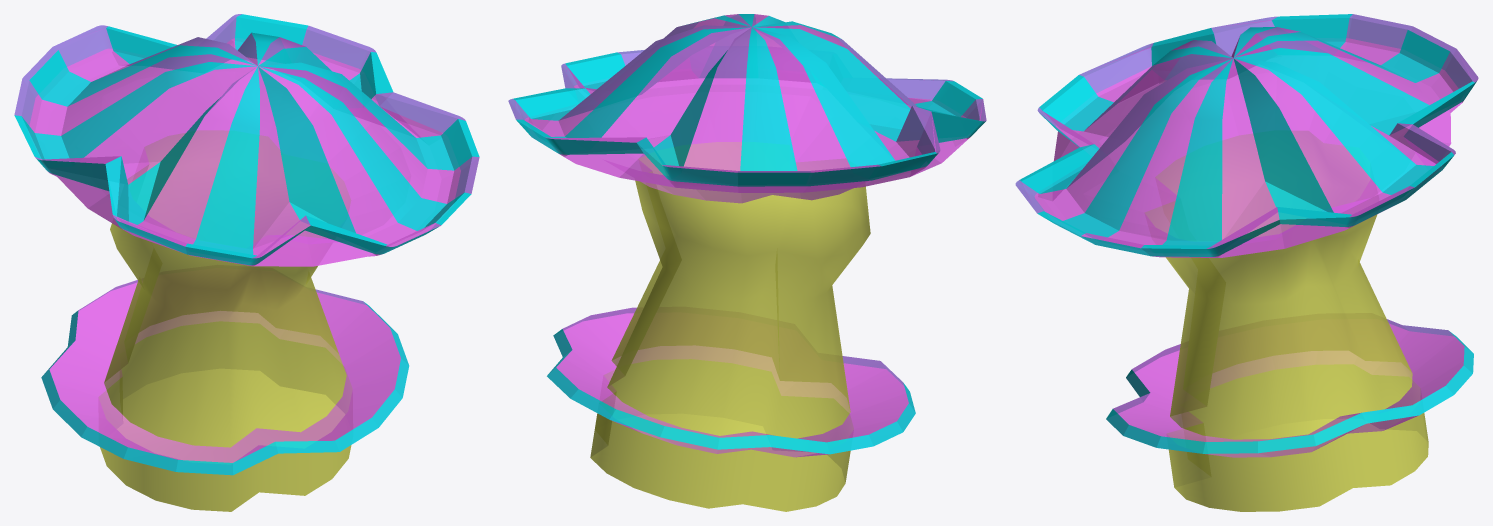
The model's file is Mushroom1.fbx.
3 views of the same model, side by side, from view 1: azimuth 30°, elevation 25°; view 2: azimuth 150°, elevation 25°; view 3: azimuth 270°, elevation 25° (orthographic). The views are drawn at different scales.
Visible parts, largest first — view 1: Little_Mushroom_geo; view 2: Little_Mushroom_geo; view 3: Little_Mushroom_geo.
Part boxes in pixels (x1=…): Little_Mushroom_geo: x1=14, y1=14, x2=479, y2=511; Little_Mushroom_geo: x1=508, y1=14, x2=986, y2=511; Little_Mushroom_geo: x1=1015, y1=14, x2=1478, y2=511.
Size of the model in its own units: 0.6972 by 0.7137 by 0.6917.
